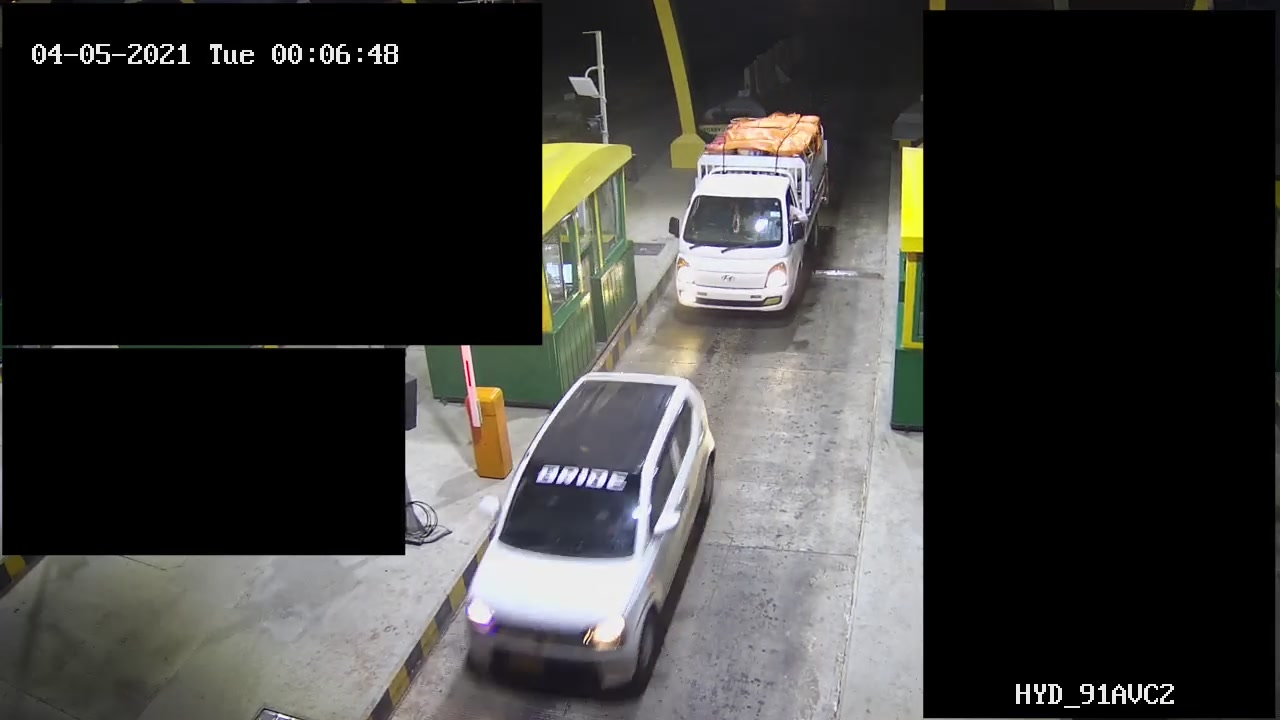F1: (449, 371, 732, 682)
F3: (667, 101, 853, 316)
